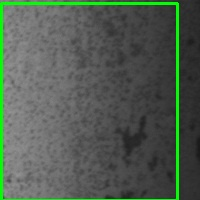pitted_surface: (1, 3, 177, 200)
